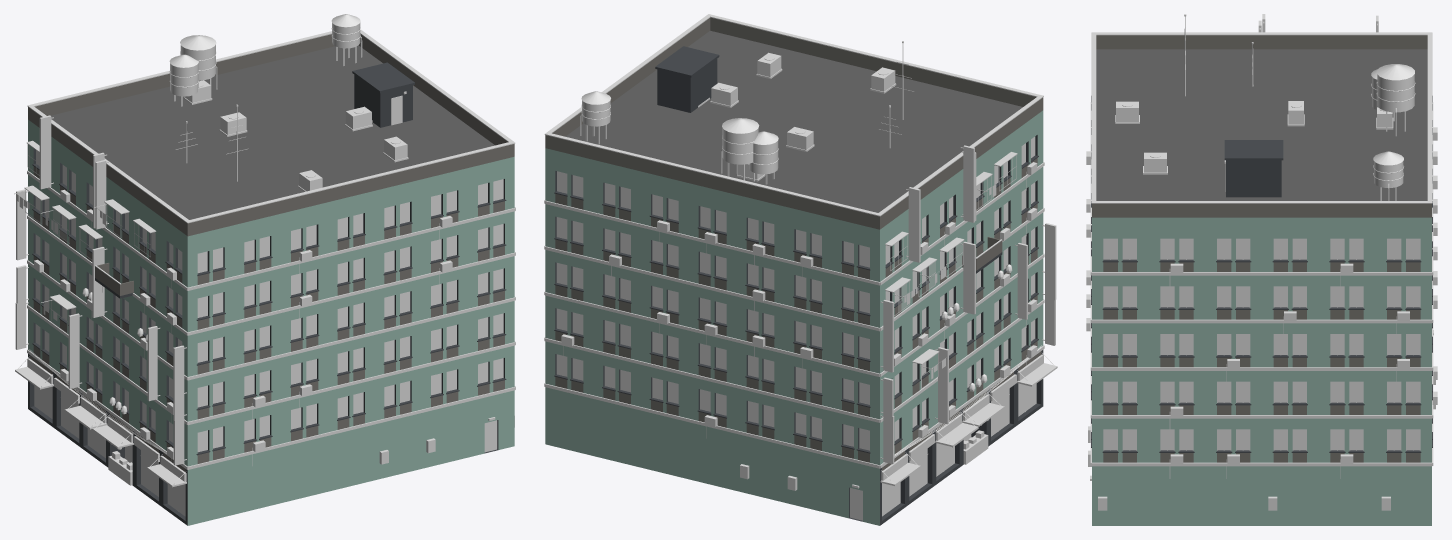
Rendered from Plaza_Block_21.fbx.
3 renders of one model, left to right at view 1: azimuth 30°, elevation 25°; view 2: azimuth 150°, elevation 25°; view 3: azimuth 270°, elevation 25°, orthographic. The views are drawn at different scales.
Parts seen in each view (by area): view 1: Plaza_Block_21_LOD0; view 2: Plaza_Block_21_LOD0; view 3: Plaza_Block_21_LOD0.
Part boxes in pixels (<box>): Plaza_Block_21_LOD0: <box>14,14,515,525</box>; Plaza_Block_21_LOD0: <box>544,14,1057,525</box>; Plaza_Block_21_LOD0: <box>1086,14,1437,525</box>.
Size of what is drawn, in the model's own units: 27.91 by 27.82 by 22.73.
